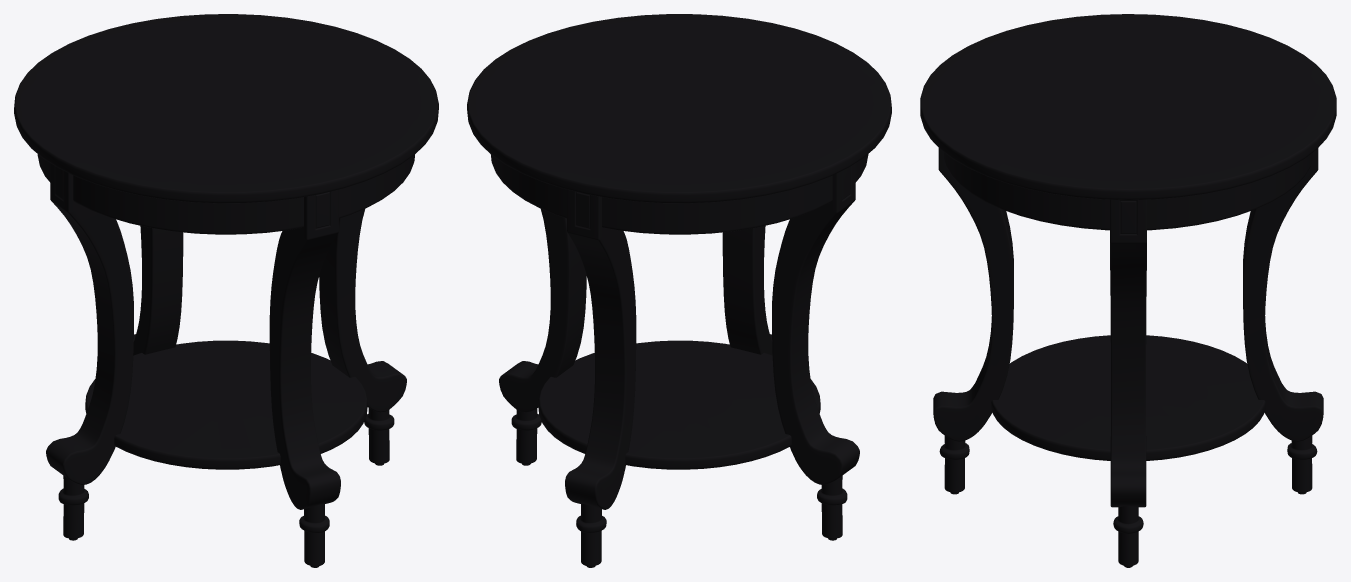
Rendered from abo-B07MHMGJMM.glb.
3 views of the same model, side by side, from view 1: azimuth 30°, elevation 25°; view 2: azimuth 150°, elevation 25°; view 3: azimuth 270°, elevation 25° (orthographic).
Bounding box in the file's own units: 0.597 × 0.618 × 0.596.
1 material, 1 textured.
